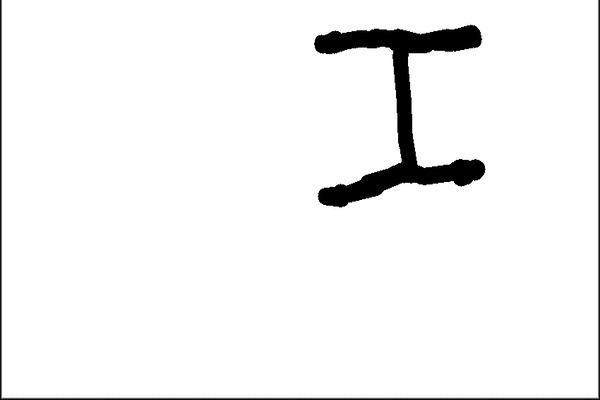i: (304, 21, 499, 211)
